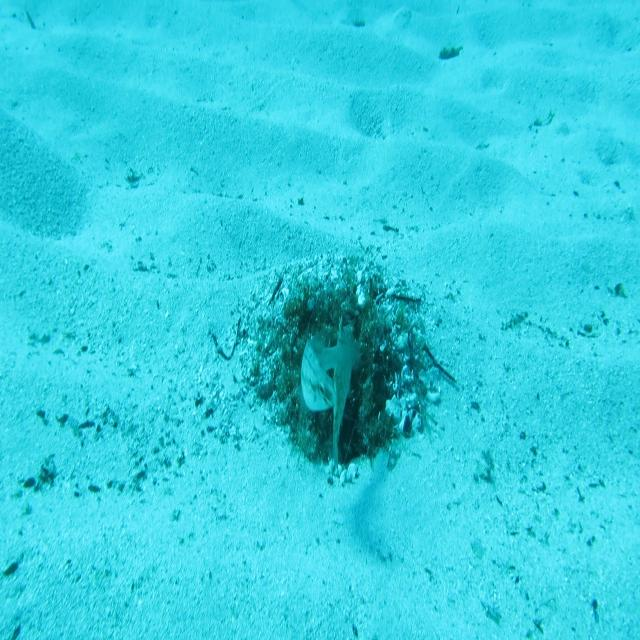FAN: (330, 310, 358, 482)
core_nest: (309, 304, 352, 337)
female: (300, 325, 362, 414)
nest: (234, 243, 448, 497)
vegetation: (438, 43, 462, 63)
